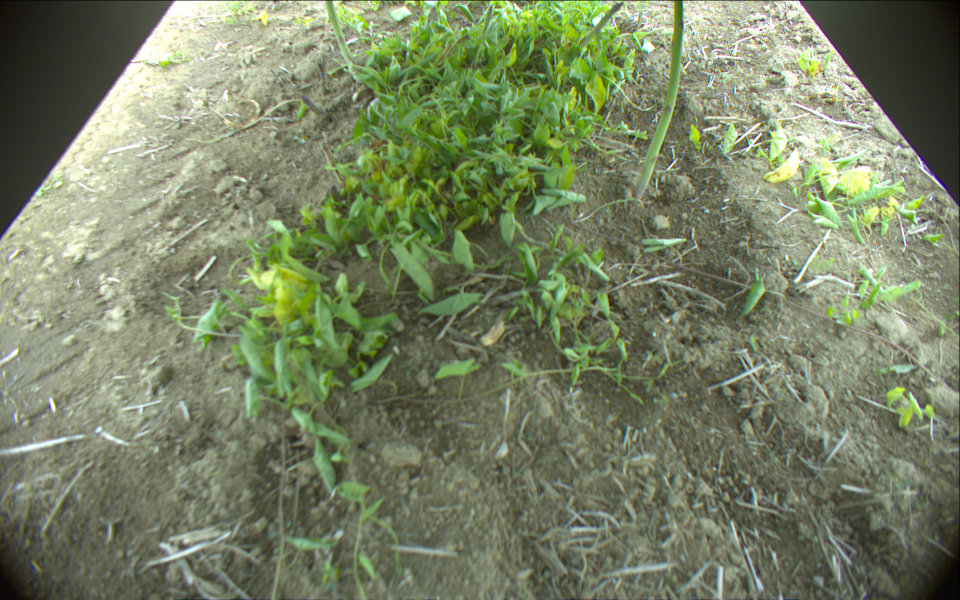aspa: (632, 1, 685, 200), (576, 1, 624, 56), (326, 1, 360, 71), (470, 7, 494, 77)
